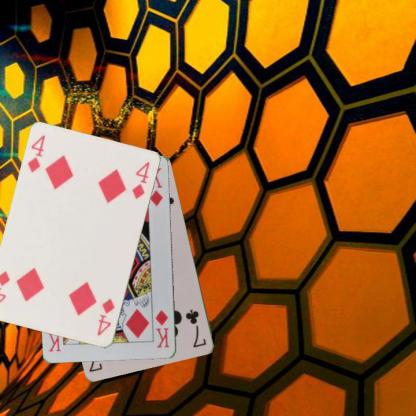4d: (25, 133, 47, 174), (95, 296, 116, 338)
7c: (183, 306, 208, 350)
Kd: (152, 308, 171, 350)
